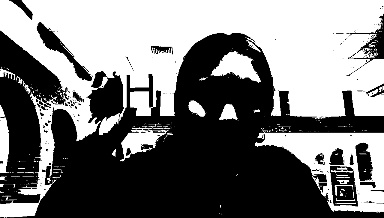H: (121, 71, 156, 108)
